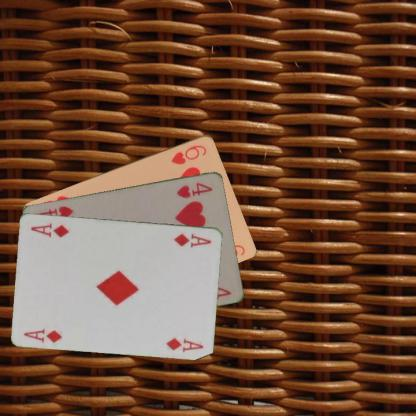4h: (174, 179, 214, 199)
6h: (169, 142, 208, 166)
Ad: (171, 230, 213, 249), (21, 325, 63, 344)
